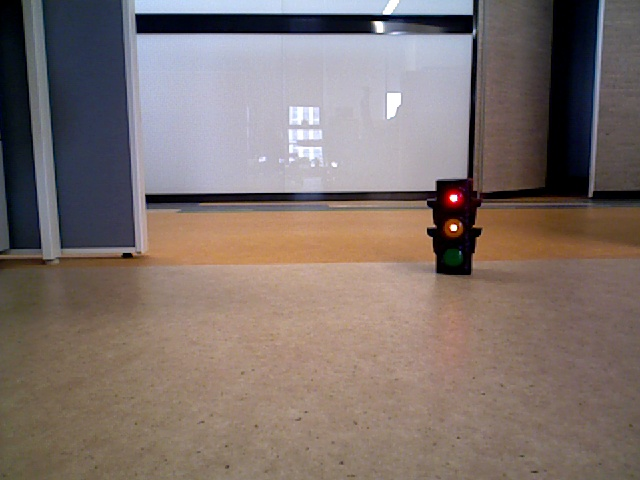red: (436, 180, 472, 273)
